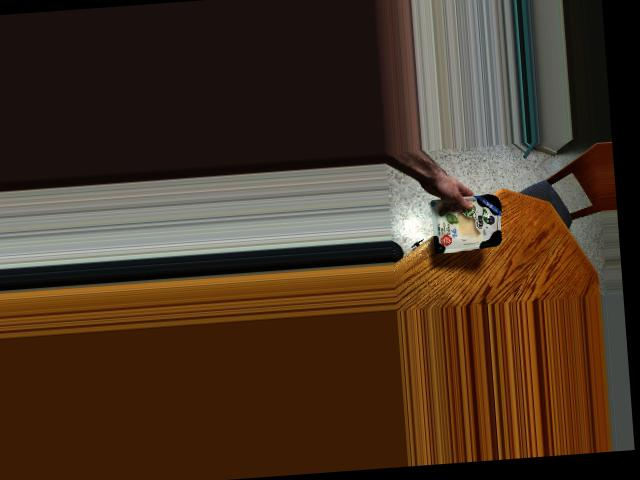cheese: (414, 190, 520, 254)
